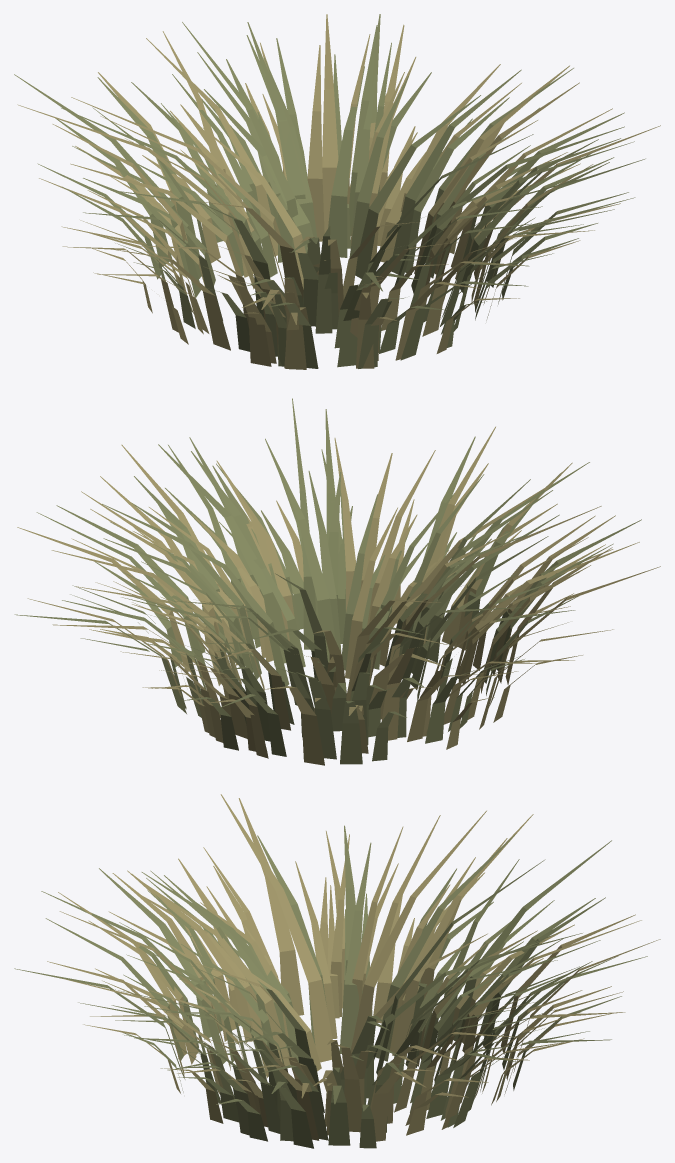
File: alpine_tussock_v2.glb
3 views of the same model, one above another, from view 1: azimuth 30°, elevation 25°; view 2: azimuth 150°, elevation 25°; view 3: azimuth 270°, elevation 25° (orthographic). The views are drawn at different scales.
Visible parts, largest first — view 1: alpine_tussock_v2; view 2: alpine_tussock_v2; view 3: alpine_tussock_v2.
Boxes of the visible parts, left/top/right/bottom form: alpine_tussock_v2: left=14, top=14, right=660, bottom=369; alpine_tussock_v2: left=14, top=398, right=660, bottom=765; alpine_tussock_v2: left=14, top=794, right=660, bottom=1148.
Size of the model in its own units: 0.8889 by 0.3092 by 0.9073.
